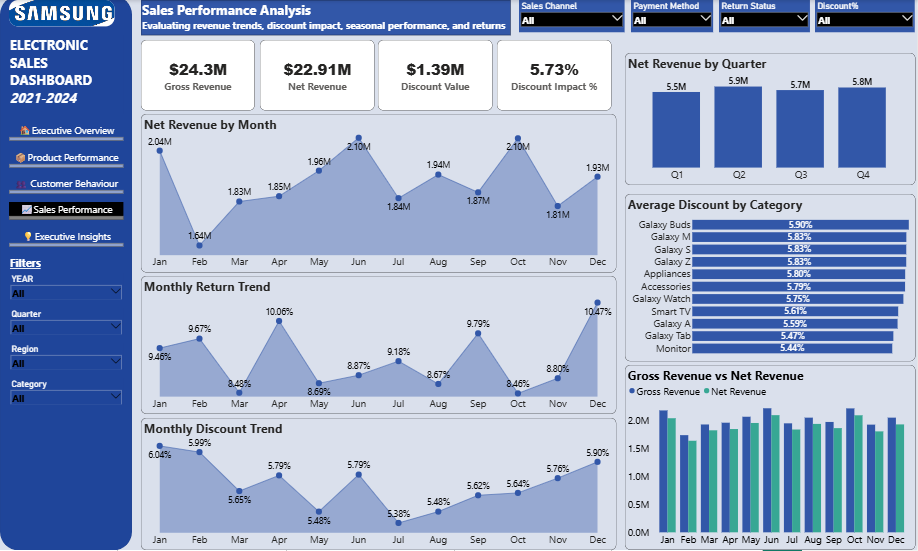

What the dashboard file says about the page in this screenshot:
{"tool":"powerbi","page":{"name":"📈Sales Performance","canvas":[5000,3000],"ordinal":3},"visuals":[{"type":"shape","box":[0,-24,720,3024],"z":0},{"type":"textbox","box":[768,0,2016,192],"z":1000},{"type":"card","fields":{"Values":["My Measures.Gross Revenue"]},"box":[768,216,620,384],"z":2000},{"type":"card","fields":{"Values":["My Measures.Net Revenue"]},"box":[1416,216,624,384],"z":3000},{"type":"card","fields":{"Values":["My Measures.Discount Value"]},"box":[2064,216,624,384],"z":4000},{"type":"card","fields":{"Values":["My Measures.Discount Impact %"]},"box":[2712,216,624,384],"z":5000},{"type":"lineChart","title":"Net Revenue by Month","fields":{"Y":["My Measures.Net Revenue"],"Category":["Calender.Month Name"]},"box":[768,624,2592,864],"z":6000},{"type":"clusteredColumnChart","fields":{"Category":["Calender.Quarter"],"Y":["My Measures.Net Revenue"]},"box":[3408,288,1584,720],"z":7000},{"type":"clusteredColumnChart","title":"Gross Revenue vs Net Revenue","fields":{"Y":["My Measures.Gross Revenue","My Measures.Net Revenue"],"Category":["Calender.Month Name"]},"box":[3408,1992,1584,1008],"z":8000},{"type":"clusteredBarChart","title":"Average Discount by Category","fields":{"Y":["My Measures.Average Discount"],"Category":["SALES.Category"]},"box":[3408,1056,1584,912],"z":9000},{"type":"lineChart","title":"Monthly Discount Trend","fields":{"Category":["Calender.Month Name"],"Y":["My Measures.Average Discount"]},"box":[768,2280,2592,720],"z":10000},{"type":"lineChart","title":"Monthly Return Trend","fields":{"Y":["My Measures.Return Rate"],"Category":["Calender.Month Name"]},"box":[768,1504,2592,752],"z":11000},{"type":"textbox","box":[48,192,624,432],"z":12000},{"type":"actionButton","title":"🏠Executive Overview","box":[48,672,624,96],"z":13000},{"type":"actionButton","title":"📦Product Performance","box":[48,816,624,96],"z":14000},{"type":"actionButton","title":"👥 Customer Behaviour","box":[48,960,624,96],"z":15000},{"type":"actionButton","title":"📈Sales Performance","box":[48,1104,624,96],"z":16000},{"type":"actionButton","title":"💡Executive Insights","box":[48,1248,624,96],"z":17000},{"type":"image","box":[48,0,576,144],"z":18000},{"type":"slicer","fields":{"Values":["Calender.YEAR"]},"box":[48,1488,624,144],"z":19000},{"type":"slicer","fields":{"Values":["Calender.Quarter"]},"box":[48,1680,624,144],"z":20000},{"type":"slicer","fields":{"Values":["SALES.Category"]},"box":[48,2064,624,144],"z":21000},{"type":"slicer","fields":{"Values":["SALES.Region"]},"box":[48,1872,624,144],"z":22000},{"type":"textbox","box":[48,1392,432,96],"z":23000},{"type":"slicer","fields":{"Values":["SALES.Sales_Channel"]},"box":[2832,0,576,176],"z":24000},{"type":"slicer","fields":{"Values":["SALES.Payment_Method"]},"box":[3440,0,448,176],"z":25000},{"type":"slicer","fields":{"Values":["SALES.Return_Status"]},"box":[3920,0,496,176],"z":26000},{"type":"slicer","fields":{"Values":["SALES.Discount_pct"]},"box":[4448,0,544,176],"z":27000}]}

Visuals, with their boxes on the page's 5000x3000 design canvas (x1, y1, x2, y2). These are canvas units, not pixel positions in the 918x551 screenshot, which may show the page scaled, cropped or inside an application window:
shape: <region>0, -24, 720, 3000</region>
textbox: <region>768, 0, 2784, 192</region>
card - My Measures.Gross Revenue: <region>768, 216, 1388, 600</region>
card - My Measures.Net Revenue: <region>1416, 216, 2040, 600</region>
card - My Measures.Discount Value: <region>2064, 216, 2688, 600</region>
card - My Measures.Discount Impact %: <region>2712, 216, 3336, 600</region>
"Net Revenue by Month" lineChart: <region>768, 624, 3360, 1488</region>
clusteredColumnChart - Calender.Quarter x My Measures.Net Revenue: <region>3408, 288, 4992, 1008</region>
"Gross Revenue vs Net Revenue" clusteredColumnChart: <region>3408, 1992, 4992, 3000</region>
"Average Discount by Category" clusteredBarChart: <region>3408, 1056, 4992, 1968</region>
"Monthly Discount Trend" lineChart: <region>768, 2280, 3360, 3000</region>
"Monthly Return Trend" lineChart: <region>768, 1504, 3360, 2256</region>
textbox: <region>48, 192, 672, 624</region>
"🏠Executive Overview" actionButton: <region>48, 672, 672, 768</region>
"📦Product Performance" actionButton: <region>48, 816, 672, 912</region>
"👥 Customer Behaviour" actionButton: <region>48, 960, 672, 1056</region>
"📈Sales Performance" actionButton: <region>48, 1104, 672, 1200</region>
"💡Executive Insights" actionButton: <region>48, 1248, 672, 1344</region>
image: <region>48, 0, 624, 144</region>
slicer - Calender.YEAR: <region>48, 1488, 672, 1632</region>
slicer - Calender.Quarter: <region>48, 1680, 672, 1824</region>
slicer - SALES.Category: <region>48, 2064, 672, 2208</region>
slicer - SALES.Region: <region>48, 1872, 672, 2016</region>
textbox: <region>48, 1392, 480, 1488</region>
slicer - SALES.Sales_Channel: <region>2832, 0, 3408, 176</region>
slicer - SALES.Payment_Method: <region>3440, 0, 3888, 176</region>
slicer - SALES.Return_Status: <region>3920, 0, 4416, 176</region>
slicer - SALES.Discount_pct: <region>4448, 0, 4992, 176</region>
